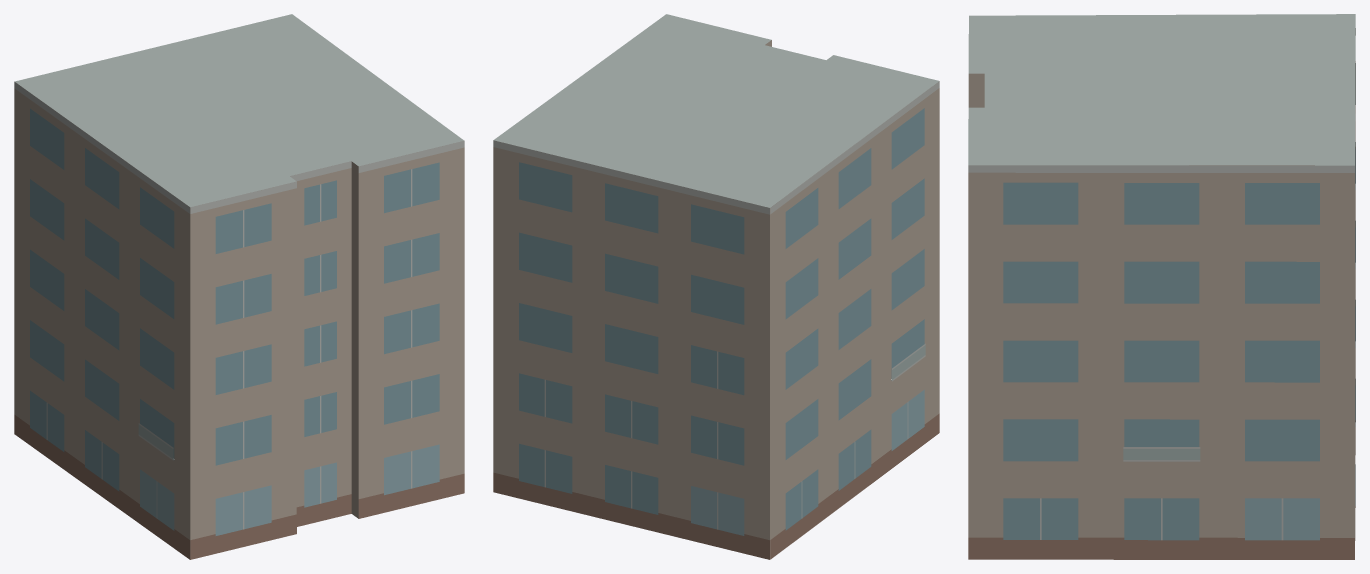
File: survey-upis-32748790.glb
The picture shows the model from 3 angles, left to right: view 1: azimuth 30°, elevation 25°; view 2: azimuth 150°, elevation 25°; view 3: azimuth 270°, elevation 25°; orthographic projection. The views are drawn at different scales.
Parts seen in each view (by area): view 1: survey-upis-32748790.tmp; view 2: survey-upis-32748790.tmp; view 3: survey-upis-32748790.tmp.
Part boxes in pixels (x1,y1,x2,y2): survey-upis-32748790.tmp: (14, 14, 464, 559); survey-upis-32748790.tmp: (493, 14, 939, 559); survey-upis-32748790.tmp: (968, 14, 1355, 559).
Size of the model in its own units: 10.5 by 12.7 by 11.32.
